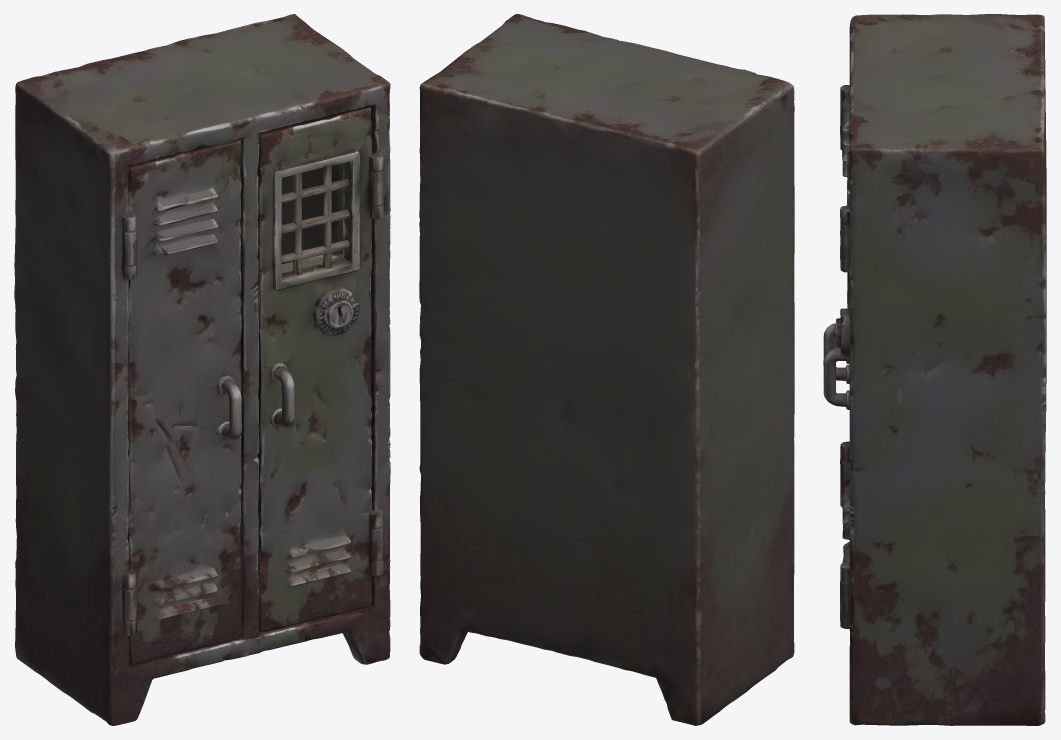
File: prison_armory_locker_idle.glb
The picture shows the model from 3 angles, left to right: view 1: azimuth 30°, elevation 25°; view 2: azimuth 150°, elevation 25°; view 3: azimuth 270°, elevation 25°; orthographic projection.
Parts seen in each view (by area): view 1: tripo_node_ff83663a-53d9-4df0-9367-45965e010dc6; view 2: tripo_node_ff83663a-53d9-4df0-9367-45965e010dc6; view 3: tripo_node_ff83663a-53d9-4df0-9367-45965e010dc6.
Part boxes in pixels (left/top/right/bottom): tripo_node_ff83663a-53d9-4df0-9367-45965e010dc6: left=14, top=14, right=390, bottom=725; tripo_node_ff83663a-53d9-4df0-9367-45965e010dc6: left=419, top=14, right=794, bottom=725; tripo_node_ff83663a-53d9-4df0-9367-45965e010dc6: left=823, top=14, right=1046, bottom=725.
Bounding box in the file's own units: 0.9771 × 1.9 × 0.6673.
Materials: 1 (1 with a texture image).
